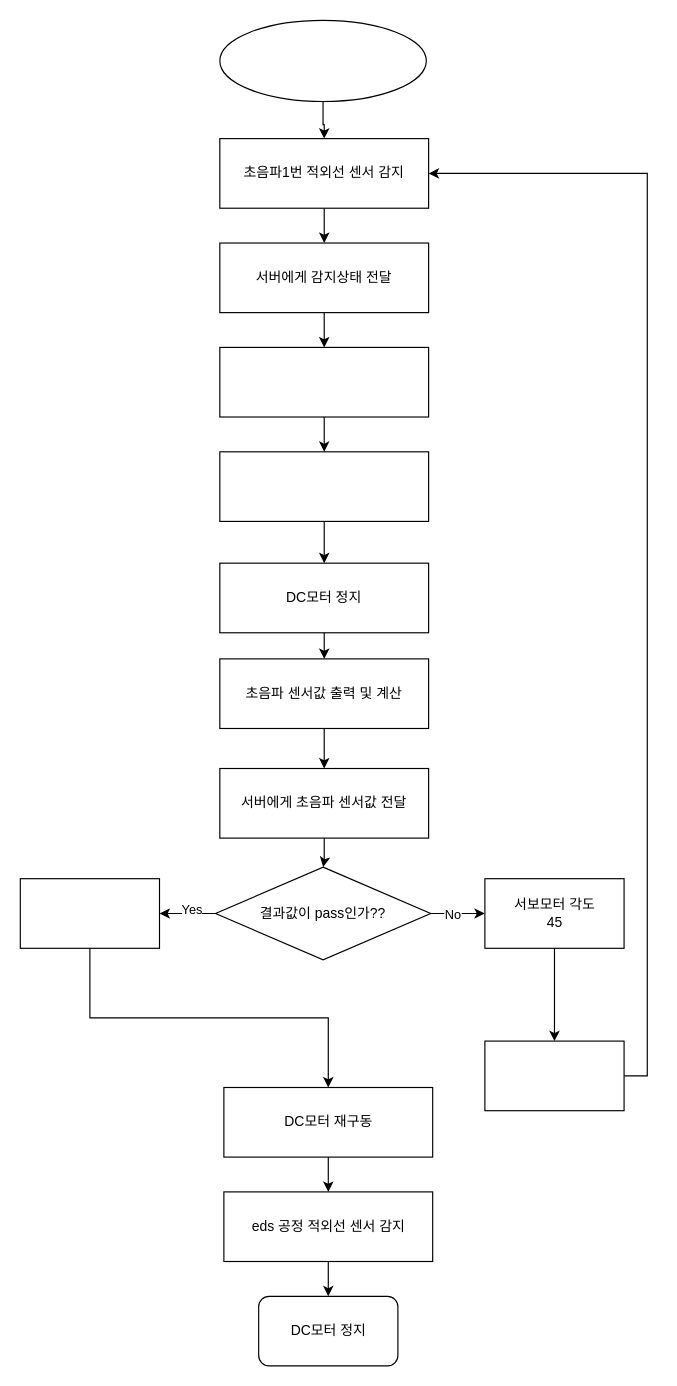
Image size: 677x1386. Some labels were removed from this diagram. The shapes that lost their labels are listed below. From the top down, each one's centre as x and y in pixels, then its label:
(x=322, y=60): START
(x=324, y=381): 함수에 센서값 삽입
(x=324, y=486): 초음파 2번 적외선 센서 감지
(x=89, y=913): 서보모터 각도 90
(x=554, y=1075): DC모터 5초간 구동
